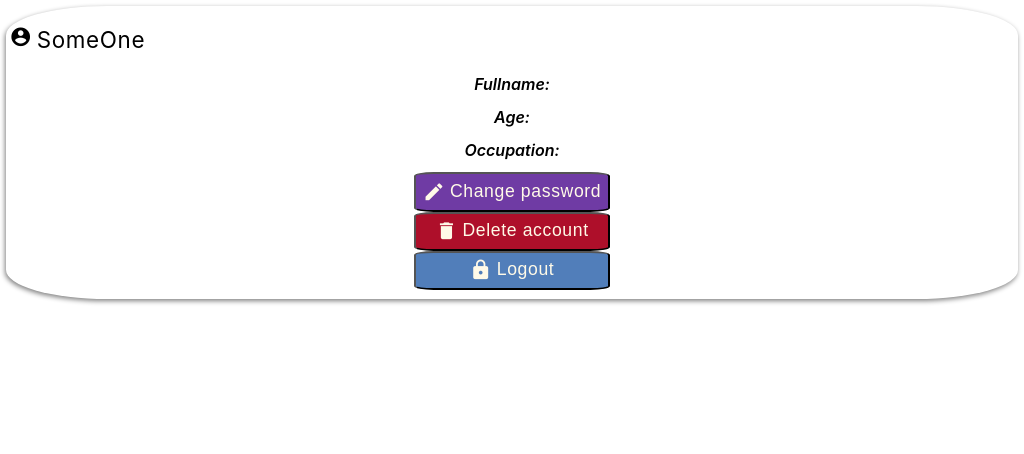
Profile item componenet tests - fail screen › Password change, front validation issue 1, old and new incorrect
start pwd change, revise inputs are there
Click the text "Change password".
click(526, 192)  # box top-left (450, 183), bottom-right (601, 201)
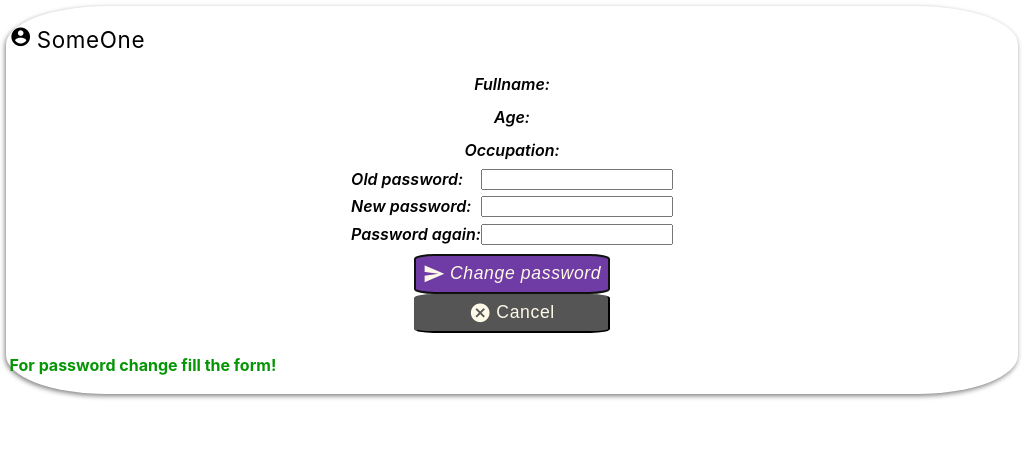
Expected: the password field labelled "Old password:" is shown
Expected: the password field labelled "New password:" is shown, top-left (481, 196), bottom-right (673, 218)
Expected: the password field labelled "Password again:" is shown, top-left (481, 224), bottom-right (673, 245)
giving bad pwd inputs, read back
Type "f" into the password field labelled "Old password:".
click(577, 180); type("f")  # box top-left (481, 169), bottom-right (673, 190)
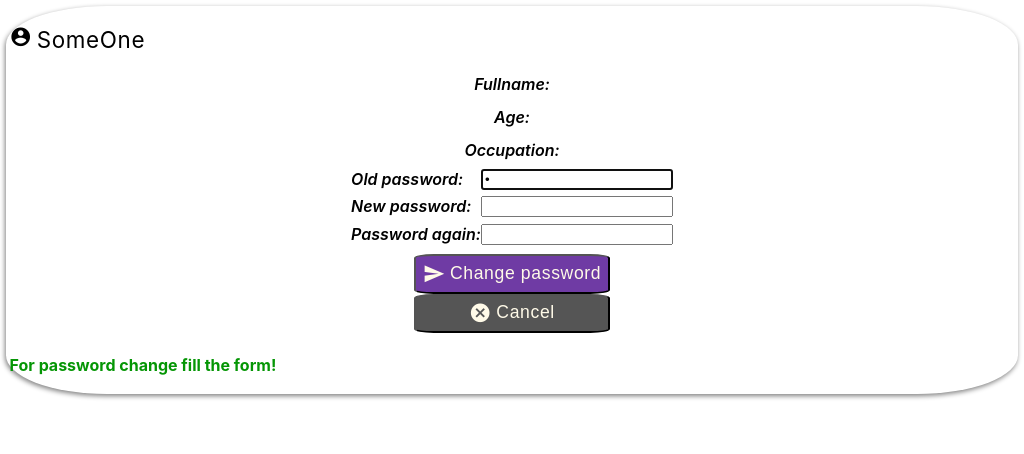
Type "t" into the password field labelled "New password:".
click(577, 207); type("t")  # box top-left (481, 196), bottom-right (673, 218)
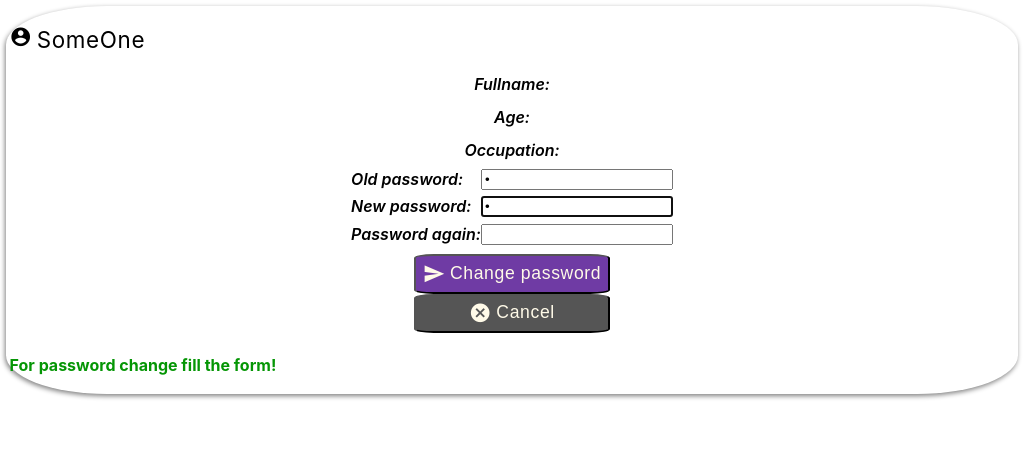
Type "t" into the password field labelled "Password again:".
click(577, 234); type("t")  # box top-left (481, 224), bottom-right (673, 245)
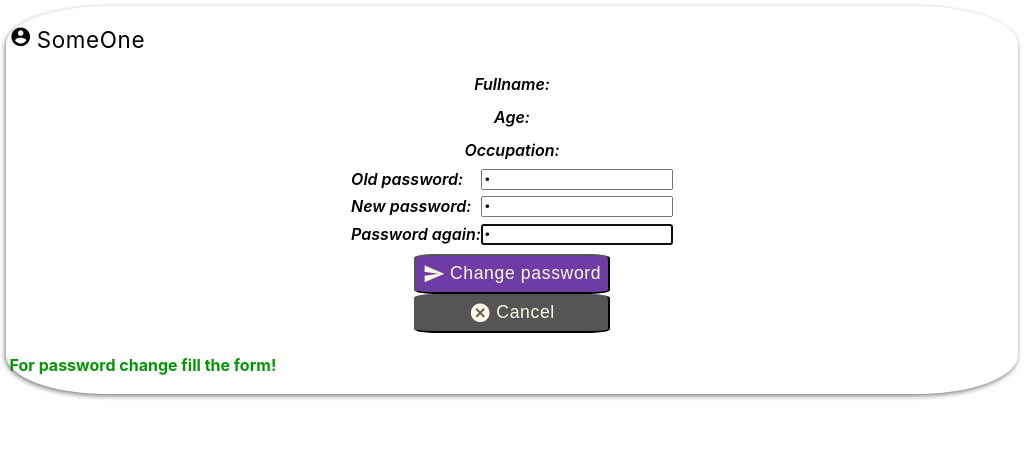
Expected: the number of password fields showing "t" is 2, top-left (481, 196), bottom-right (673, 218); top-left (481, 224), bottom-right (673, 245)
attempt finish pwd change, find error messages
Click the text "Change password".
click(526, 274)  # box top-left (450, 265), bottom-right (601, 283)
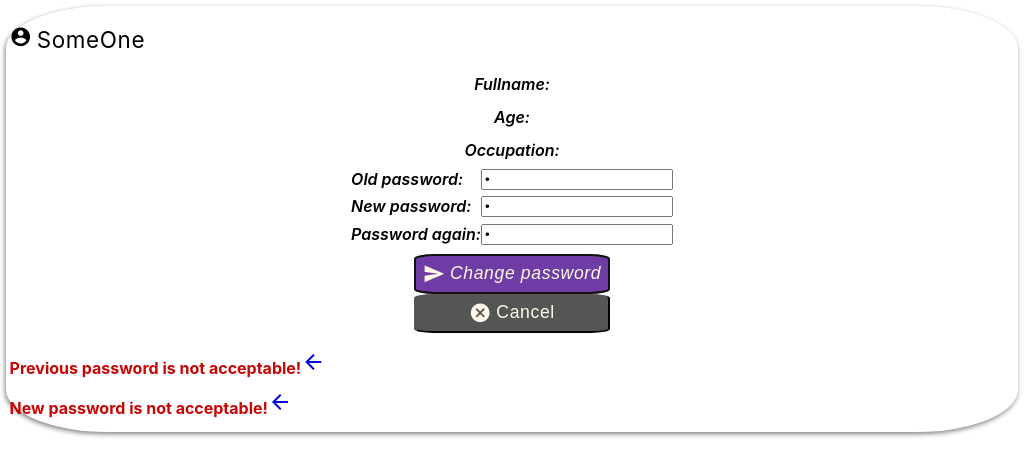
Expected: the text "Previous password is not acceptable!" is shown, top-left (10, 358), bottom-right (301, 378)
Expected: the text "New password is not acceptable!" is shown, top-left (10, 398), bottom-right (268, 418)
